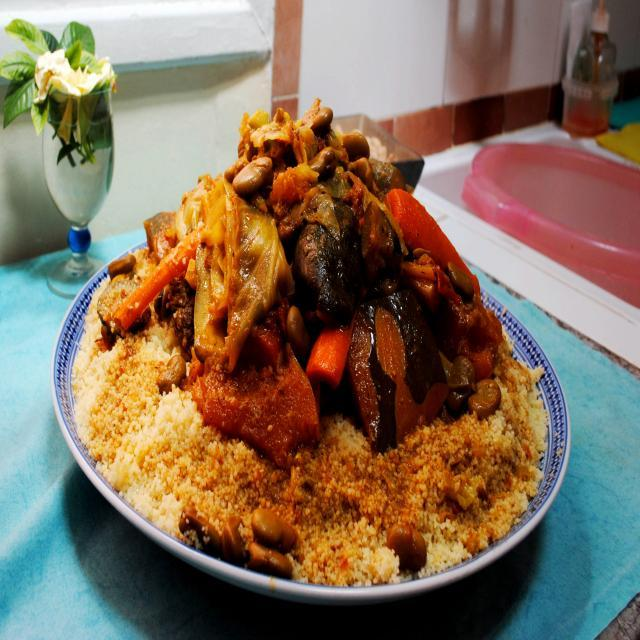Couscous: (56, 97, 568, 592)
